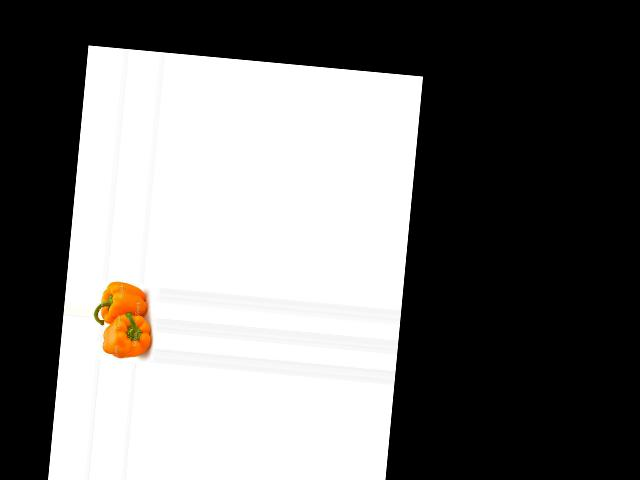bell_pepper: (94, 279, 149, 331)
